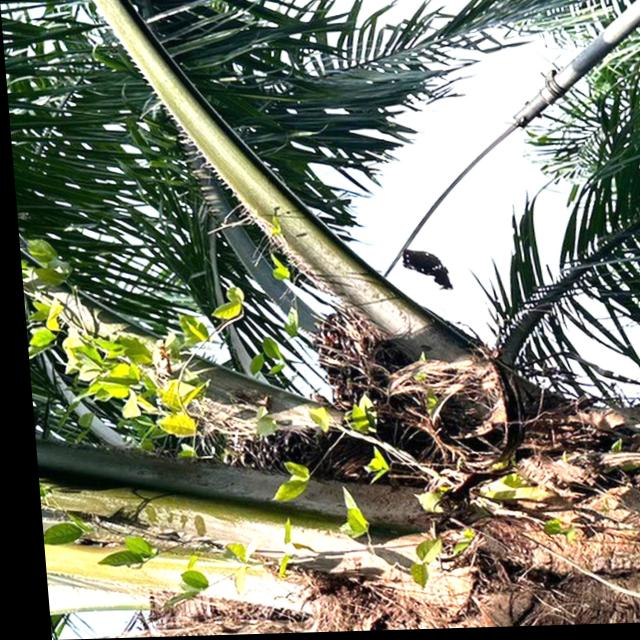almost: (295, 303, 433, 436)
